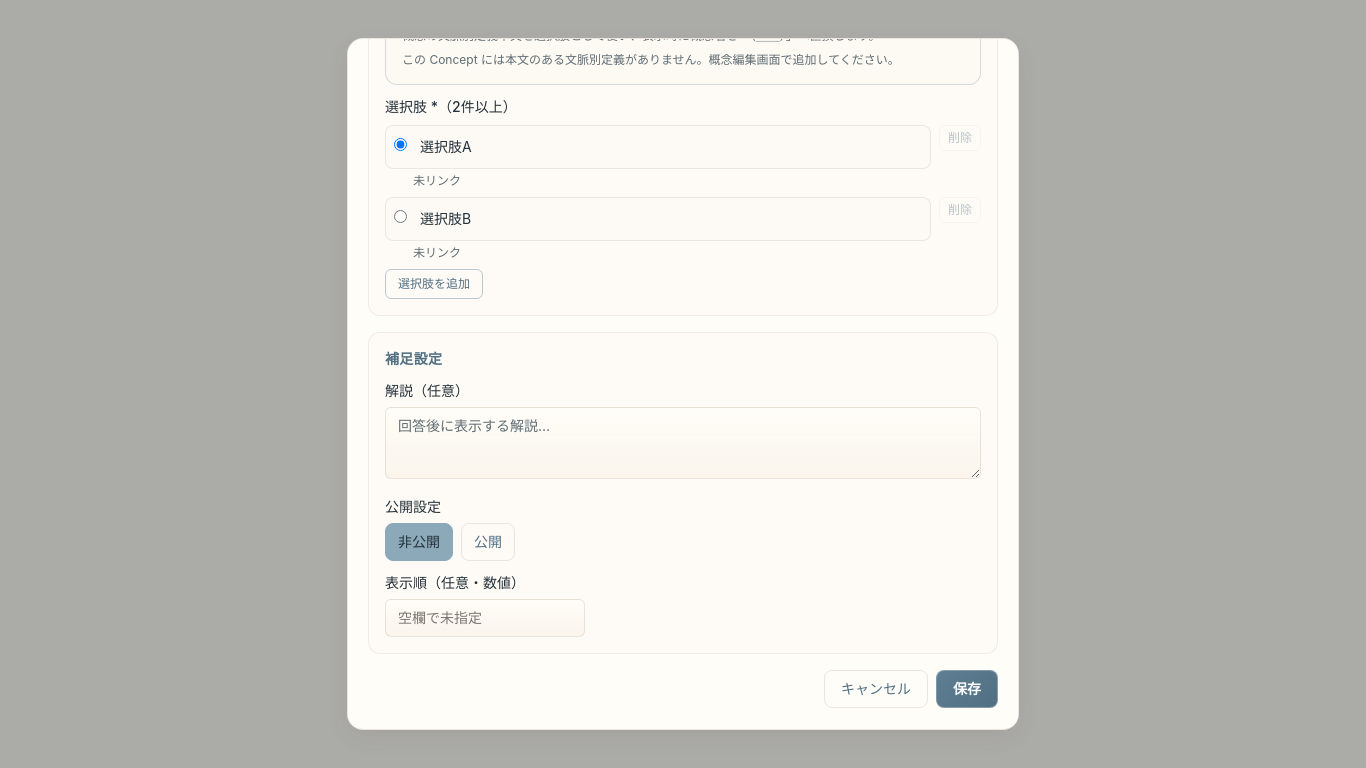
Scenario: QuizQuestionFormModal persistQuestion › persistQuestion が reject するとエラーを表示し modal を閉じない
(page scrolled)
Step 1. Click the button "保存" → click(967, 689), box [936,670,998,708]
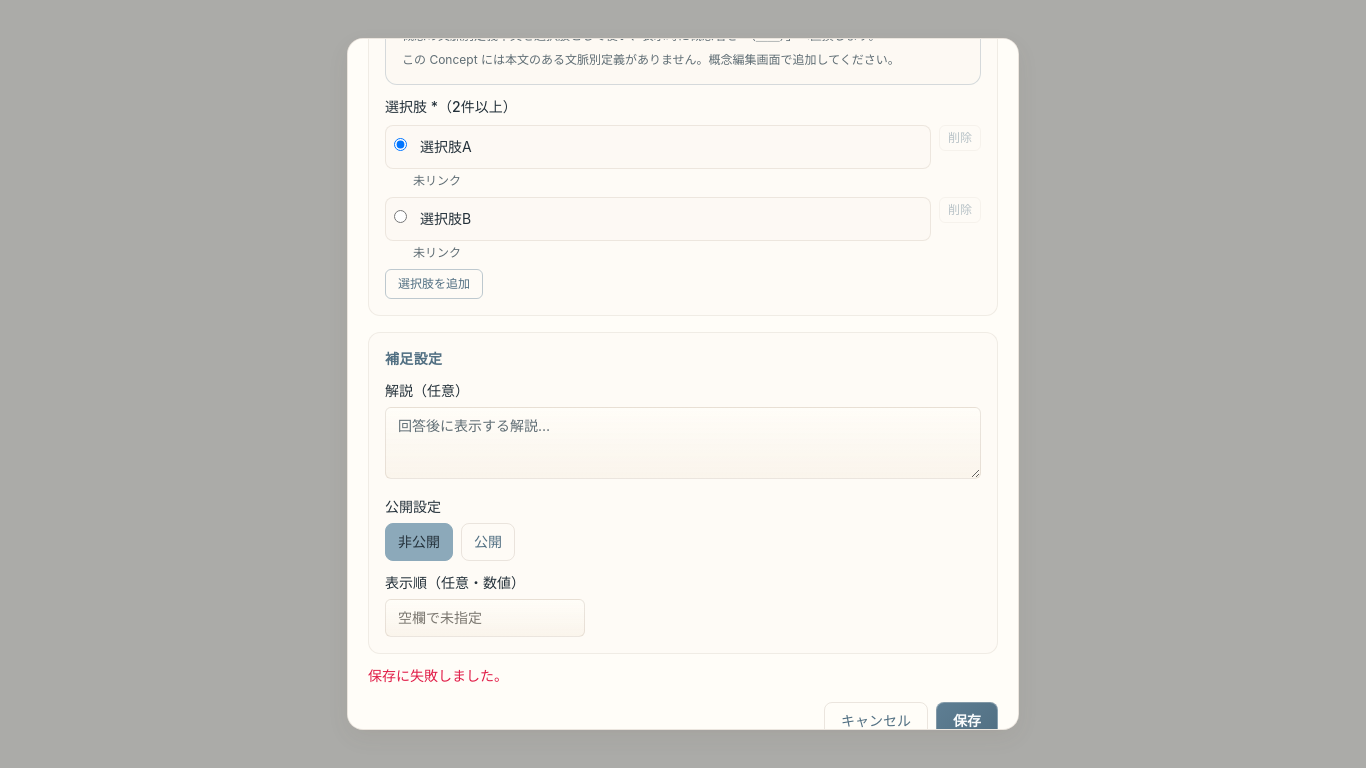
Expected: the text "保存に失敗しました。" is shown, [368,667,508,684]
